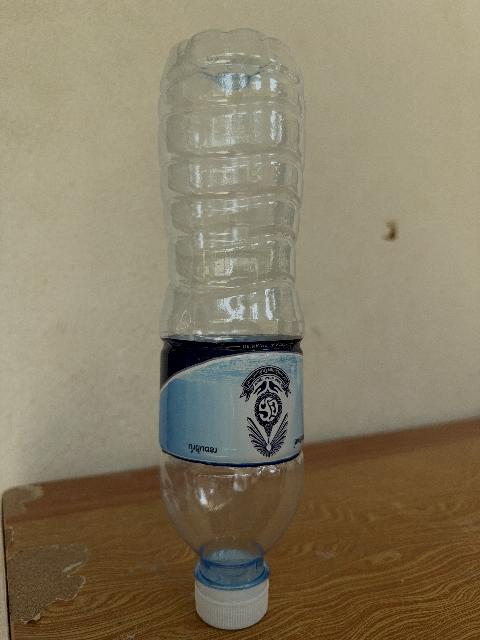bottle: (159, 30, 303, 628)
